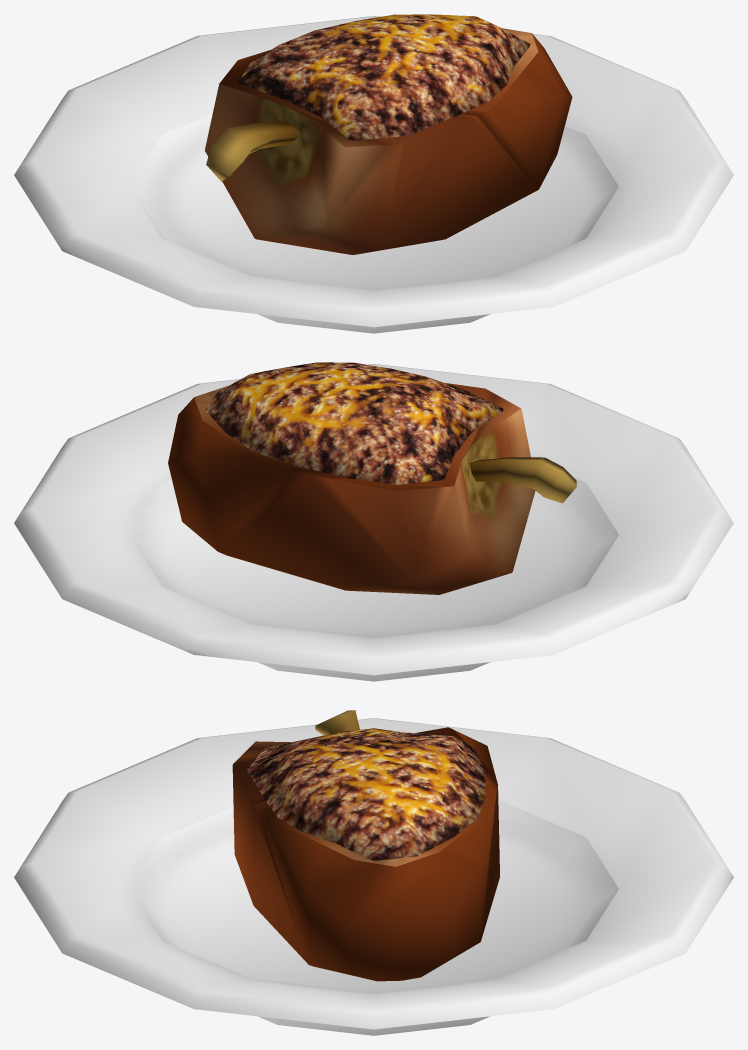
The model's file is VFX_PlateBellPepper.fbx.
The picture shows the model from 3 angles, top to bottom: view 1: azimuth 30°, elevation 25°; view 2: azimuth 150°, elevation 25°; view 3: azimuth 270°, elevation 25°; orthographic projection.
Visible parts, largest first — view 1: Plate Bell Pepper; view 2: Plate Bell Pepper; view 3: Plate Bell Pepper.
Part boxes in pixels (x1,y1,x2,y2): Plate Bell Pepper: (14,14,733,333); Plate Bell Pepper: (14,362,733,681); Plate Bell Pepper: (14,710,733,1035).
Size of the model in its own units: 0.1587 by 0.0521 by 0.1587.
